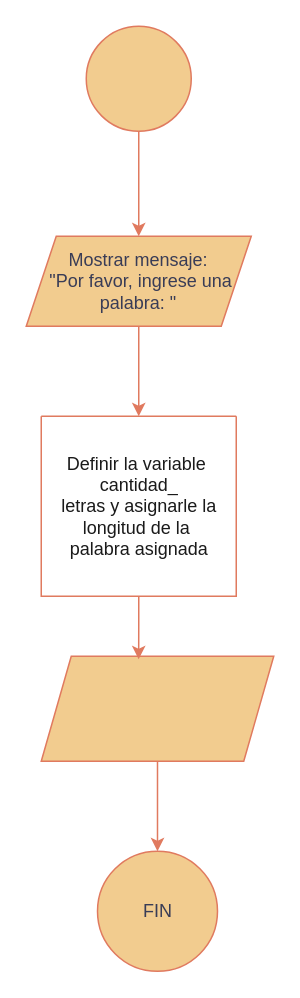
The diagram is 300 pixels wide and 998 high, and some of its shapes have lost their labels. The centre of each missing label's shape, as x and y in pixels:
INICIO: (138,78)
Mostrar mensaje: "La palabra tiene", cantidad_letras, "letras": (157,708)
